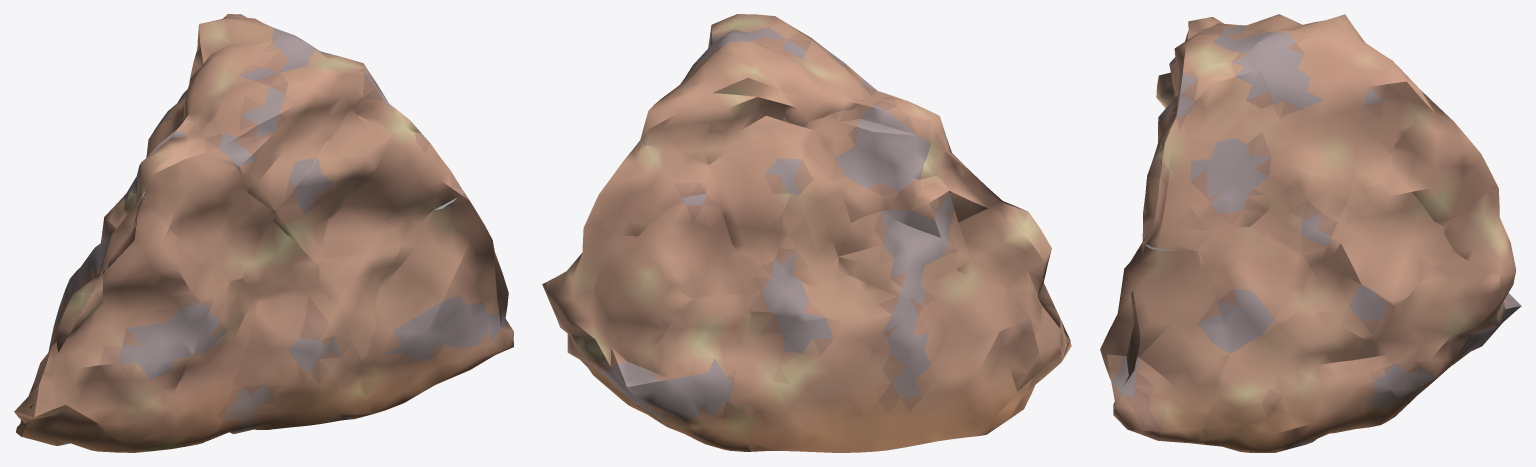
The model's file is iron_rock_v6.glb.
3 renders of one model, left to right at view 1: azimuth 30°, elevation 25°; view 2: azimuth 150°, elevation 25°; view 3: azimuth 270°, elevation 25°, orthographic. The views are drawn at different scales.
Visible parts, largest first — view 1: Chunk_12, Chunk_05, Chunk_28, Chunk_02, Chunk_20, Chunk_18, Chunk_07, Chunk_23, Chunk_04, Chunk_10, Chunk_15, Chunk_29 (+3 smaller); view 2: Chunk_04, Chunk_01, Chunk_11, Chunk_06, Chunk_25, Chunk_29, Chunk_17, Chunk_12, Chunk_27, Chunk_28, Chunk_19, Chunk_24 (+4 smaller); view 3: Chunk_29, Chunk_05, Chunk_00, Chunk_26, Chunk_03, Chunk_16, Chunk_13, Chunk_24, Chunk_21, Chunk_11, Chunk_08, Chunk_18 (+2 smaller).
Part boxes in pixels (x1,y1,x2,y2): Chunk_12: (43,197,218,448); Chunk_05: (360,191,513,415); Chunk_28: (183,39,364,213); Chunk_02: (211,287,369,439); Chunk_20: (142,148,274,284); Chunk_18: (323,130,463,258); Chunk_07: (144,279,258,451); Chunk_23: (273,95,390,263); Chunk_04: (14,279,148,452); Chunk_10: (319,242,400,363); Chunk_15: (242,221,319,297); Chunk_29: (190,14,314,75); Chunk_04: (853,271,1071,451); Chunk_01: (712,312,873,452); Chunk_11: (545,223,693,397); Chunk_06: (623,294,752,445); Chunk_25: (800,98,948,222); Chunk_29: (640,32,788,165); Chunk_17: (838,176,957,297); Chunk_12: (940,144,1055,311); Chunk_27: (706,118,805,266); Chunk_28: (728,14,891,128); Chunk_19: (638,193,759,299); Chunk_24: (586,139,707,236); Chunk_29: (1251,14,1430,192); Chunk_05: (1100,242,1229,444); Chunk_00: (1203,305,1390,452); Chunk_26: (1160,53,1301,233); Chunk_03: (1374,259,1502,426); Chunk_16: (1320,183,1464,306); Chunk_13: (1199,227,1309,355); Chunk_24: (1383,100,1495,226); Chunk_21: (1250,170,1350,266); Chunk_11: (1443,183,1518,354); Chunk_08: (1303,262,1395,345); Chunk_18: (1142,140,1209,250).
Size of the model in its own units: 3.59 by 2.55 by 2.72.
